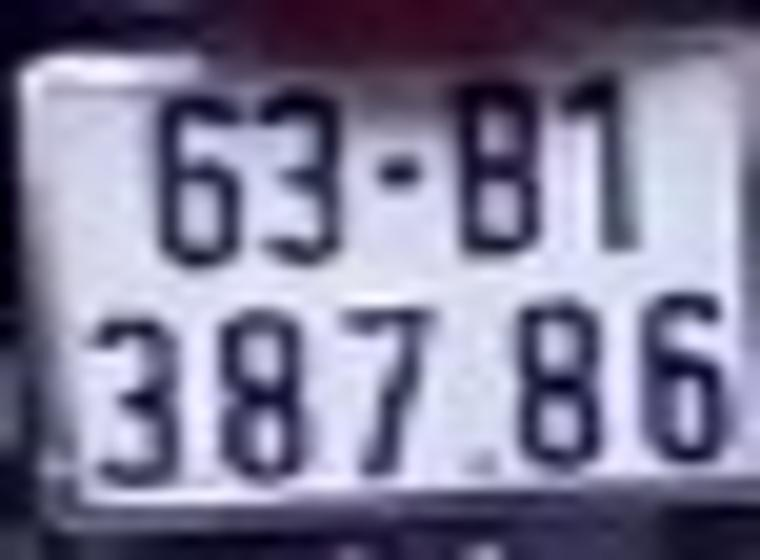-: (379, 165, 413, 179)
.: (474, 454, 497, 476)
1: (564, 77, 635, 248)
3: (88, 315, 181, 482), (262, 95, 345, 267)
6: (641, 291, 722, 462), (157, 96, 236, 269)
7: (345, 307, 430, 472)
8: (219, 314, 306, 479), (516, 304, 601, 467)
B: (459, 79, 537, 252)
